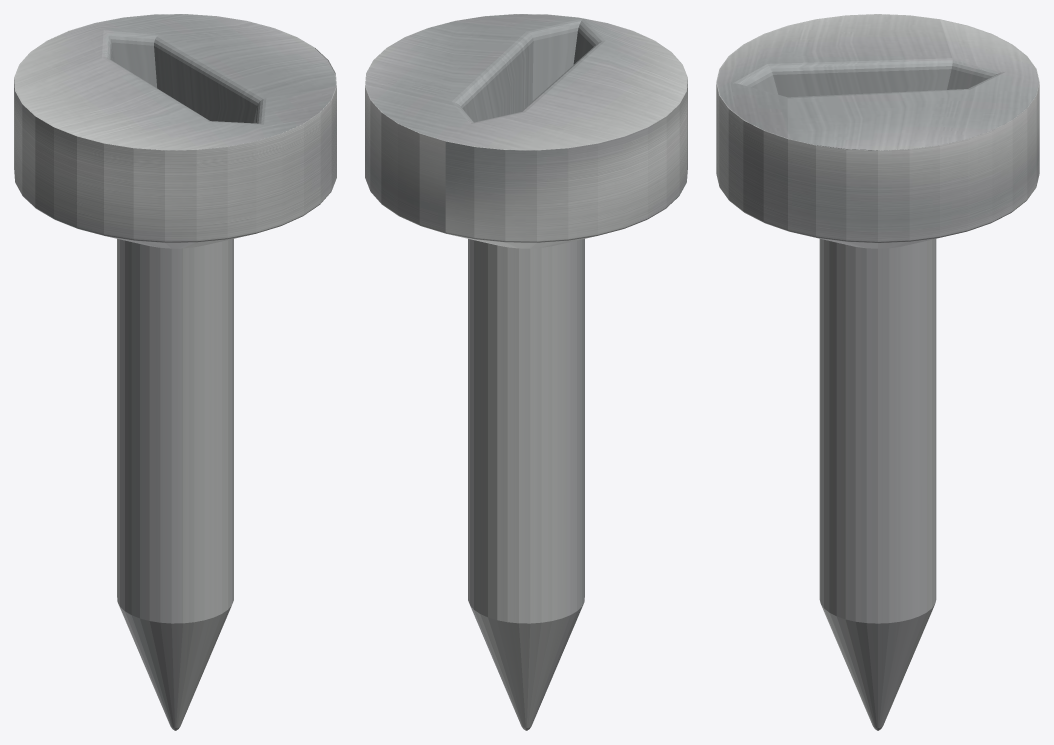
File: Screw.fbx
3 renders of one model, left to right at view 1: azimuth 30°, elevation 25°; view 2: azimuth 150°, elevation 25°; view 3: azimuth 270°, elevation 25°, orthographic.
Visible parts, largest first — view 1: obj1; view 2: obj1; view 3: obj1.
Boxes of the visible parts, x1=… form: obj1: x1=14, y1=14, x2=336, y2=730; obj1: x1=365, y1=14, x2=687, y2=730; obj1: x1=716, y1=14, x2=1039, y2=730.
Size of the model in its own units: 800 by 1787 by 800.
1 material, 1 textured.
